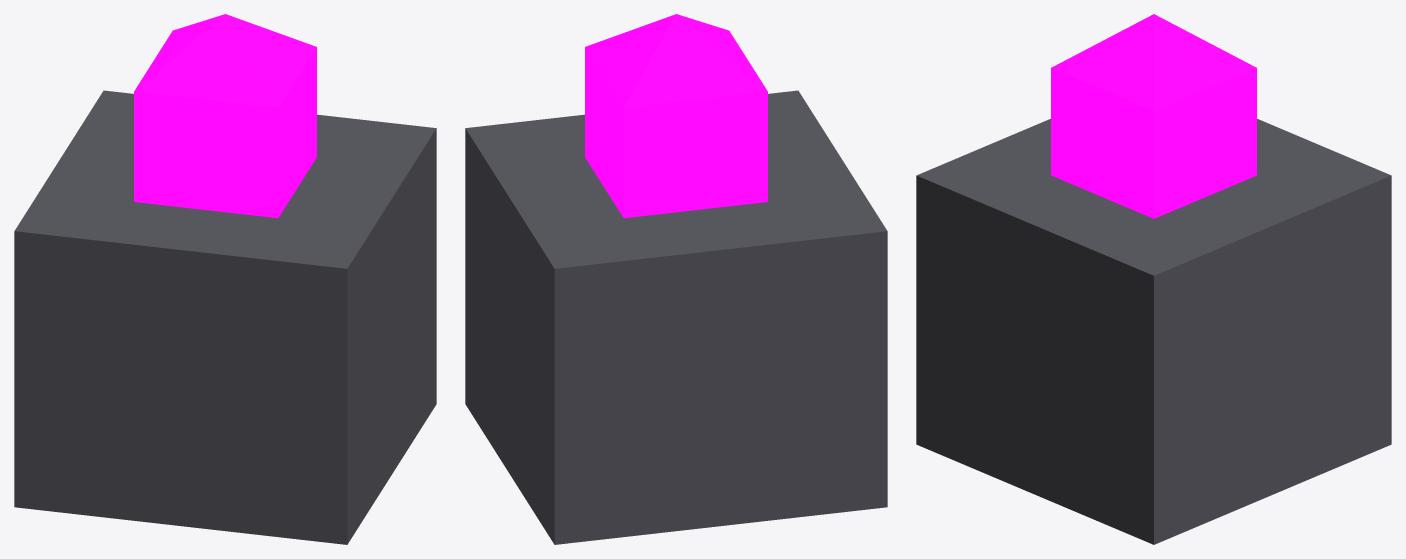
Rendered from tower_tesla_lod2.glb.
3 views of the same model, side by side, from view 1: azimuth 30°, elevation 25°; view 2: azimuth 150°, elevation 25°; view 3: azimuth 270°, elevation 25° (orthographic). The views are drawn at different scales.
Parts seen in each view (by area): view 1: tower_tesla_lod2; view 2: tower_tesla_lod2; view 3: tower_tesla_lod2.
Boxes of the visible parts, <box> form: tower_tesla_lod2: <box>14,14,436,544</box>; tower_tesla_lod2: <box>465,14,887,544</box>; tower_tesla_lod2: <box>916,14,1391,544</box>.
Bounding box in the file's own units: 0.8 × 0.8 × 0.8.
